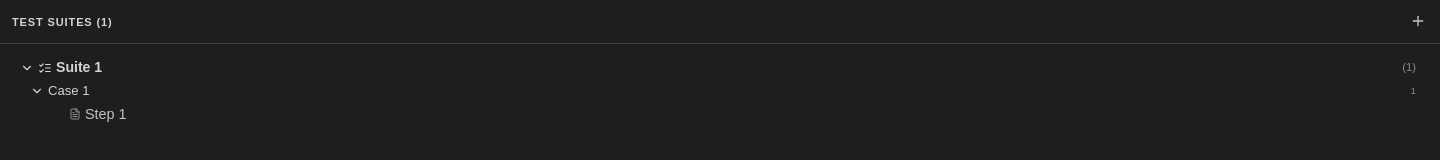
TestsUi right-click import/export menu › step right-clicks stay untouched (rename/delete only, no file actions)
Right-click the text "Step 1" at (106, 114), box [85,106,127,122]
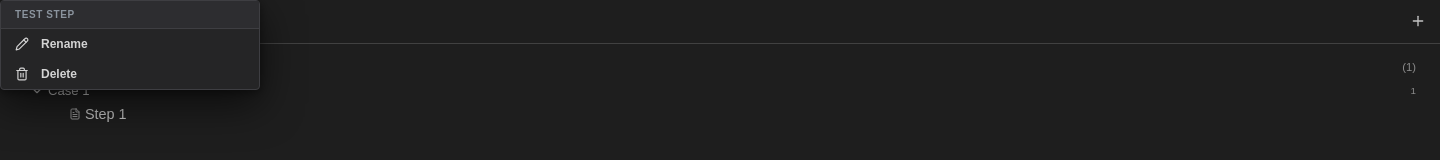
Expected: the text "Rename" is shown, [41,37,88,51]
